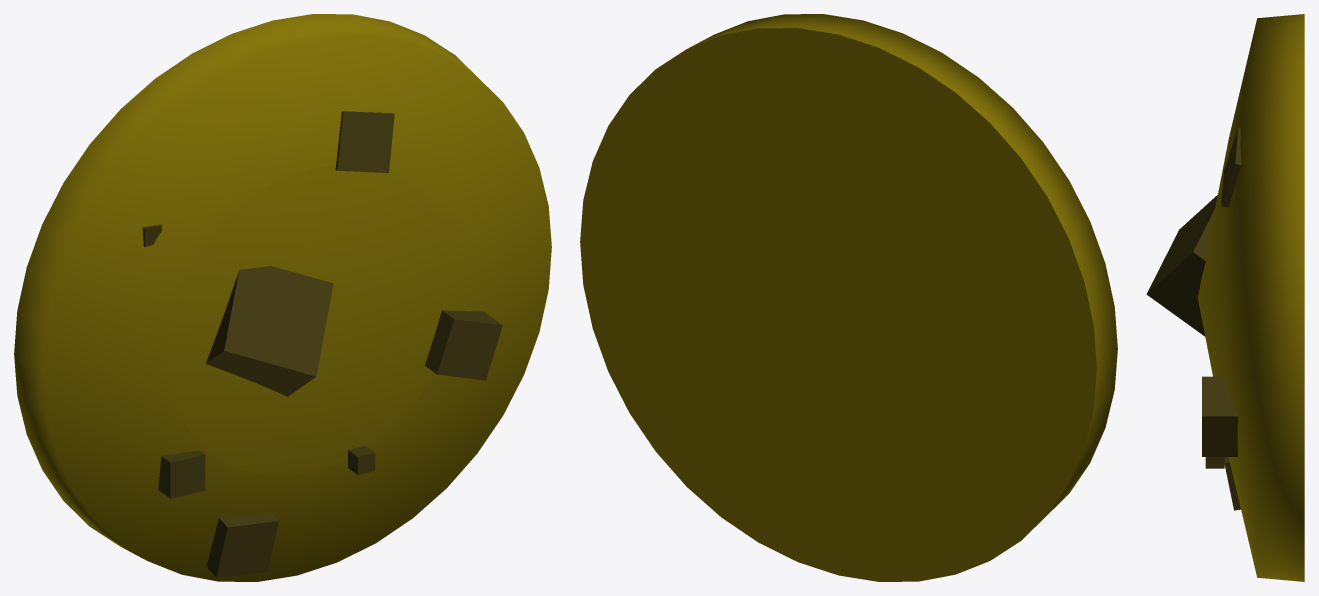
Rendered from chococookie.fbx.
3 renders of one model, left to right at view 1: azimuth 30°, elevation 25°; view 2: azimuth 150°, elevation 25°; view 3: azimuth 270°, elevation 25°, orthographic. The views are drawn at different scales.
Visible parts, largest first — view 1: pCube8; view 2: pCube8; view 3: pCube8.
Boxes of the visible parts, bbox=[...] form: pCube8: bbox=[14, 14, 551, 581]; pCube8: bbox=[580, 14, 1117, 581]; pCube8: bbox=[1146, 14, 1304, 581].
Bounding box in the file's own units: 30 × 30 × 8.35.
